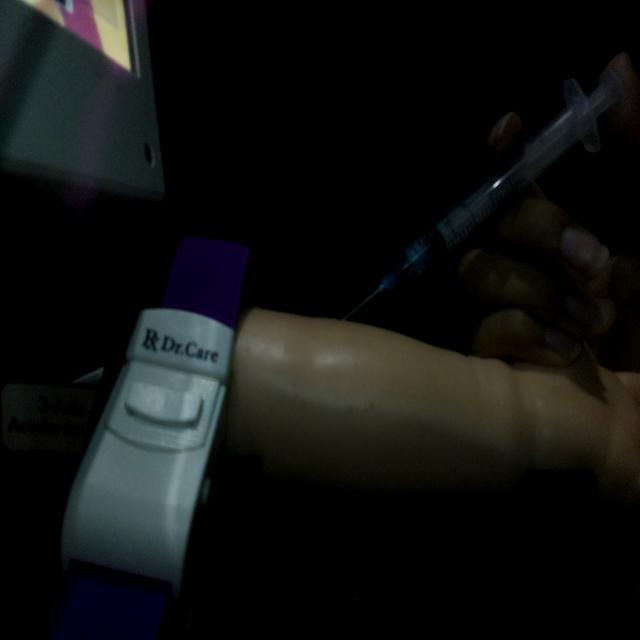30 degrees: (343, 65, 627, 322)
